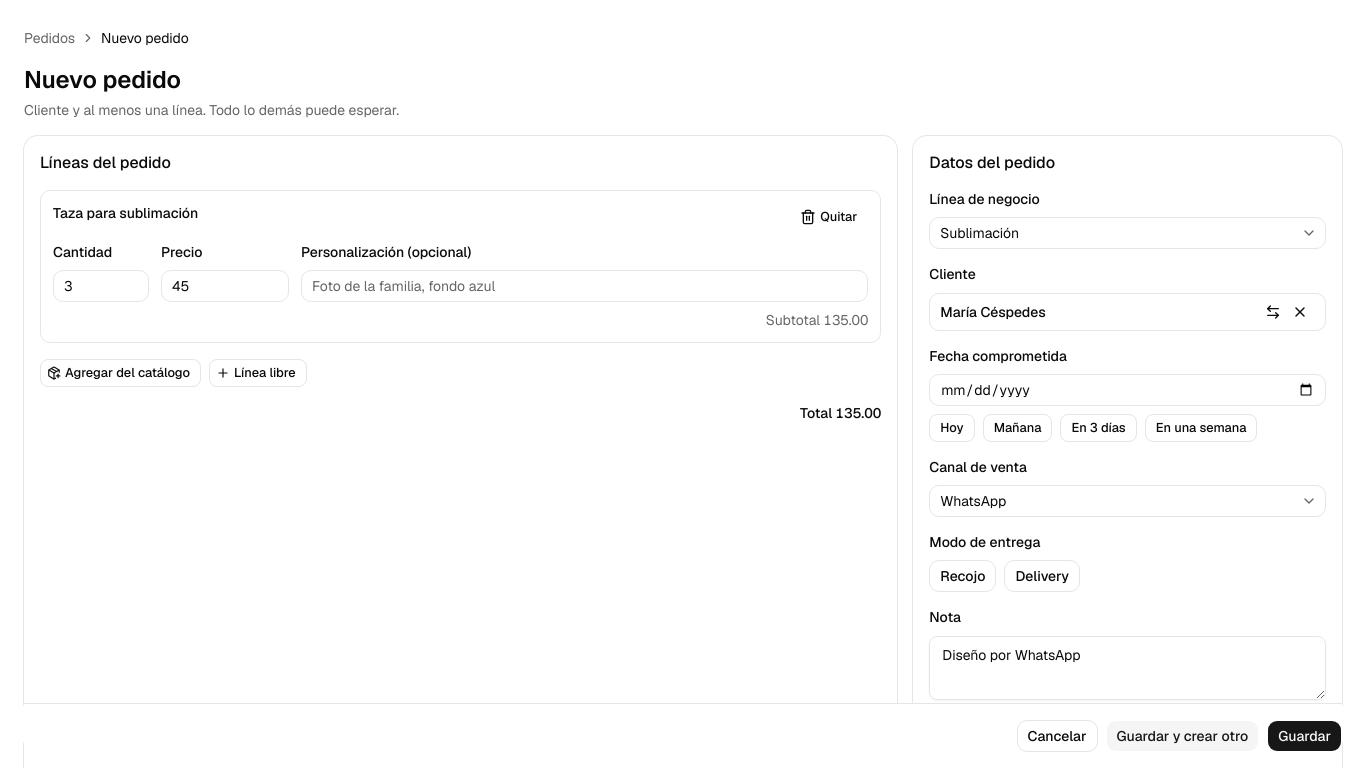
Test: OrderForm · guardar › «Guardar y crear otro» conserva línea y canal, y limpia lo demás
What coordinates should you click on to do the following:
click the button with test id "save-and-new"
I would click on:
 (1182, 736)
Its box is top-left (1106, 720), bottom-right (1259, 752).
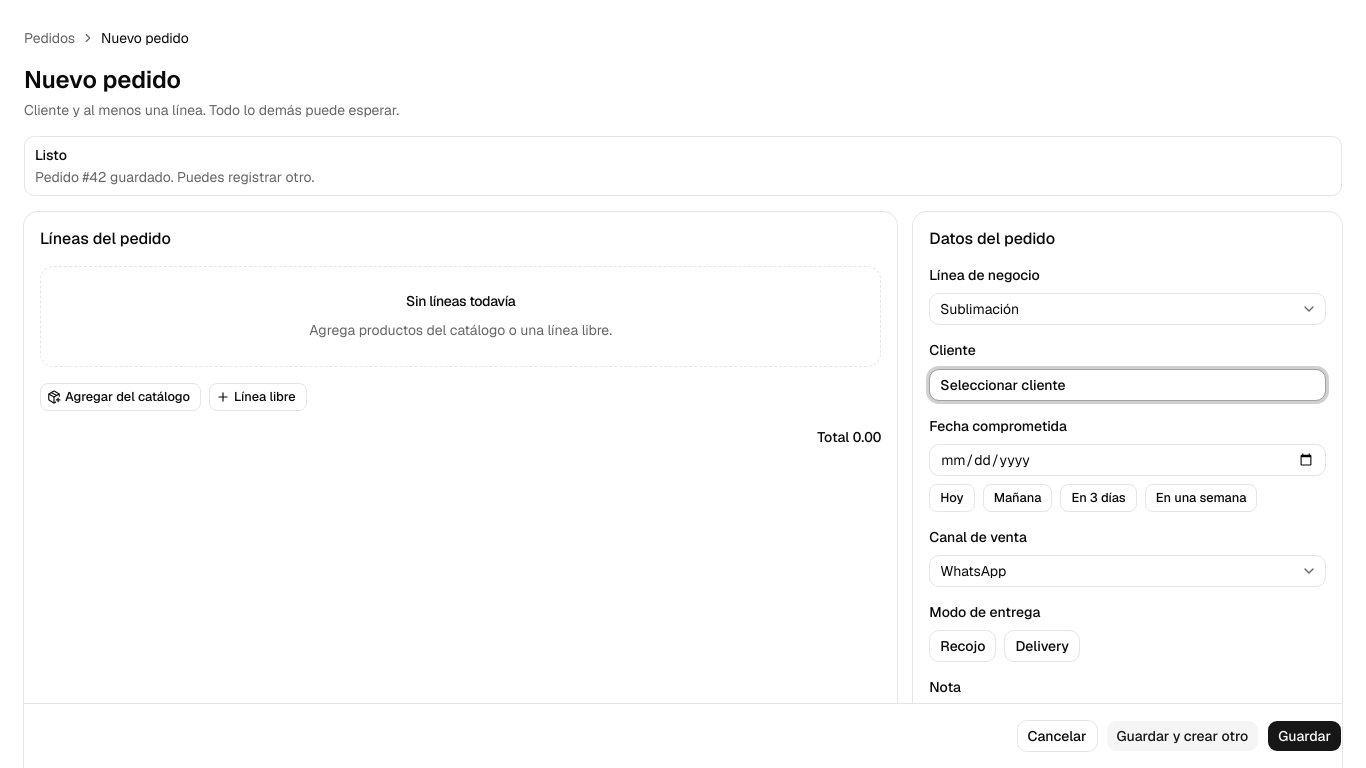
Check: the message with test id "order-form-notice" shows "Pedido #42 guardado", box top-left (35, 168), bottom-right (314, 186)
Check: the text "Sin líneas todavía" is shown, box top-left (406, 291), bottom-right (515, 311)
Check: the button "Seleccionar cliente" is shown, box top-left (929, 368), bottom-right (1326, 400)
